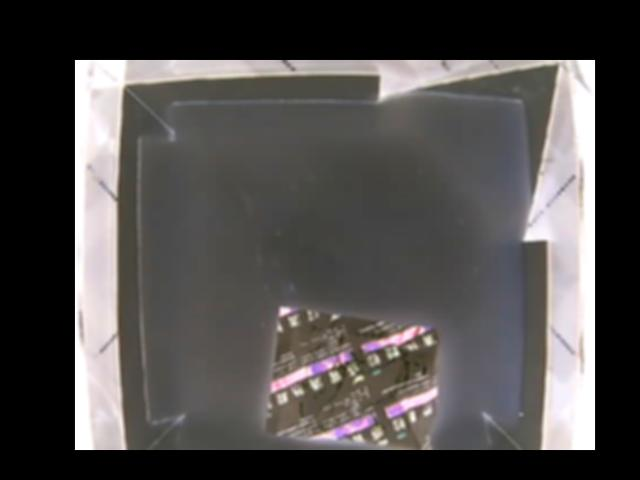Medicine: (264, 306, 442, 450)
